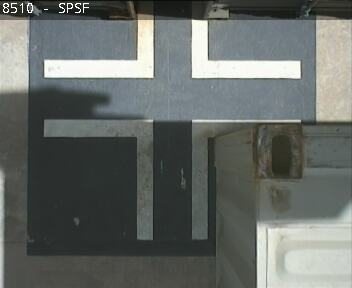groundmarker_1: (43, 117, 302, 240), (43, 1, 301, 78)
